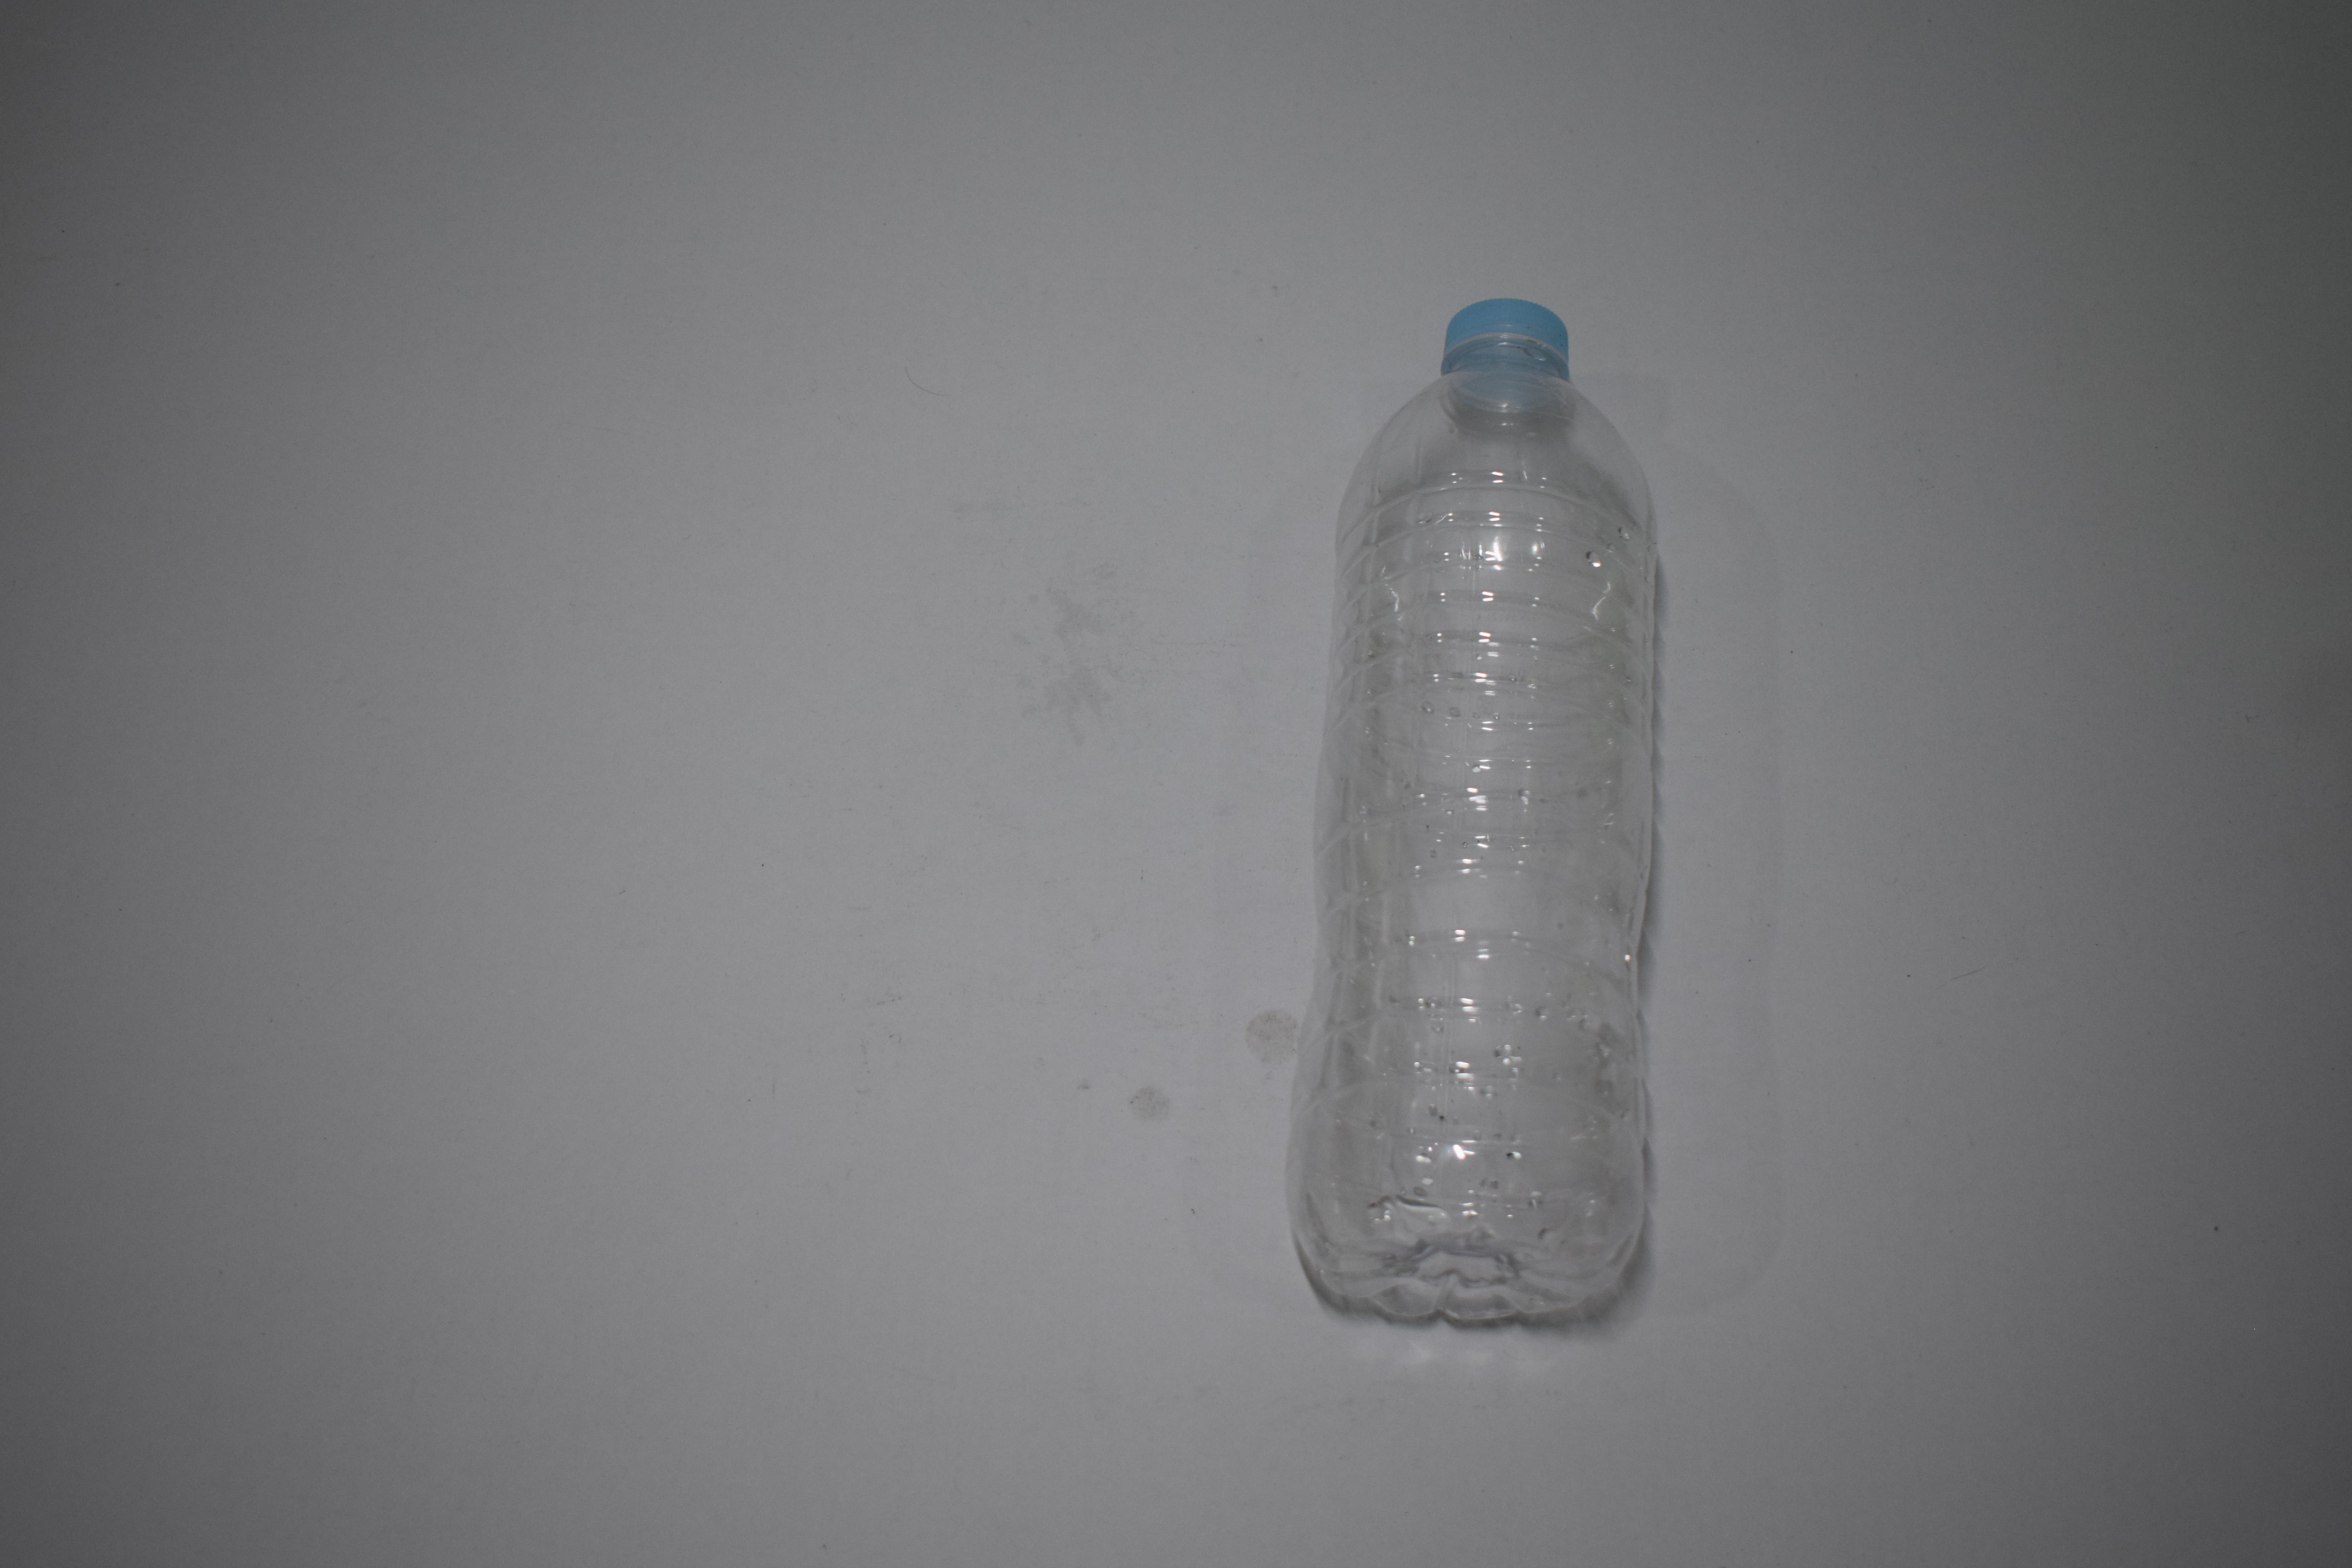bottle: (1286, 0, 1670, 544)
